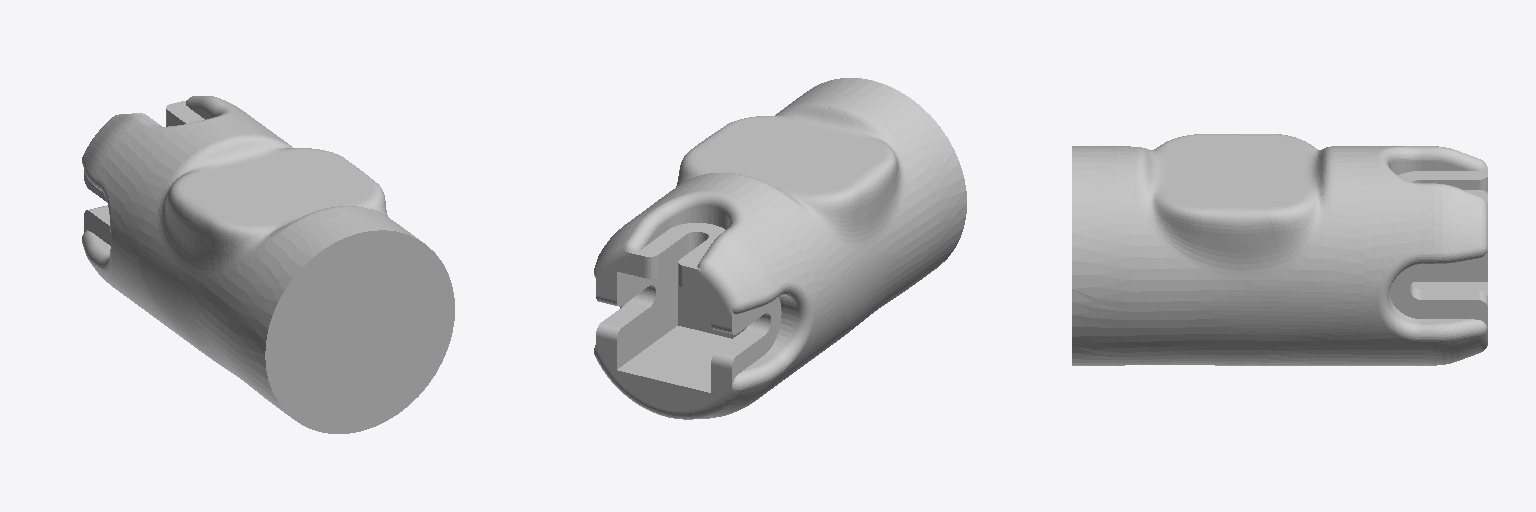
File: j2n6s300_link_base_visuals_mesh_0.obj
3 views of the same model, side by side, from view 1: azimuth 30°, elevation 25°; view 2: azimuth 150°, elevation 25°; view 3: azimuth 270°, elevation 25° (orthographic).
Size of the model in its own units: 0.0825 by 0.0825 by 0.1567.